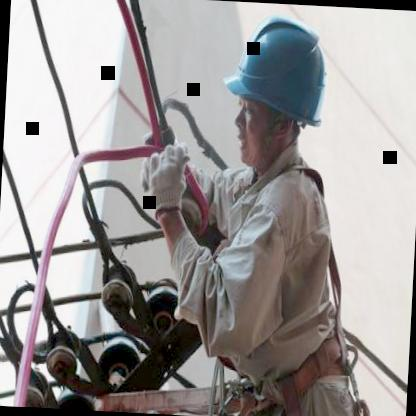helmet: (216, 2, 338, 184)
